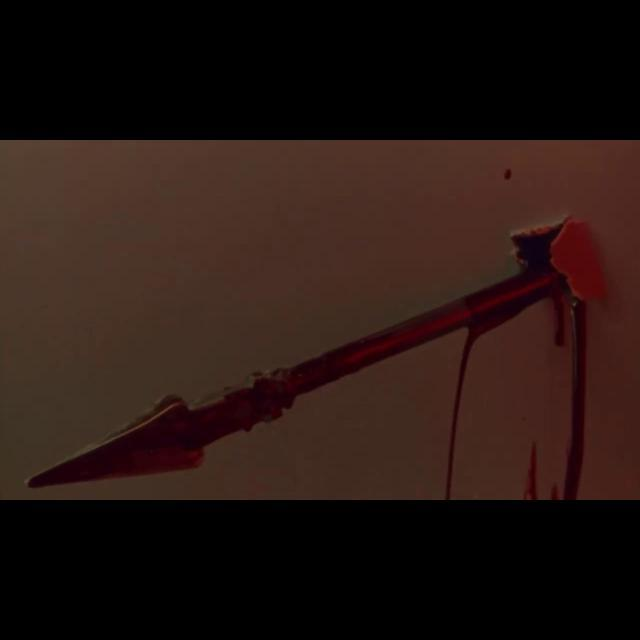blood: (25, 216, 608, 500), (501, 168, 516, 181)
